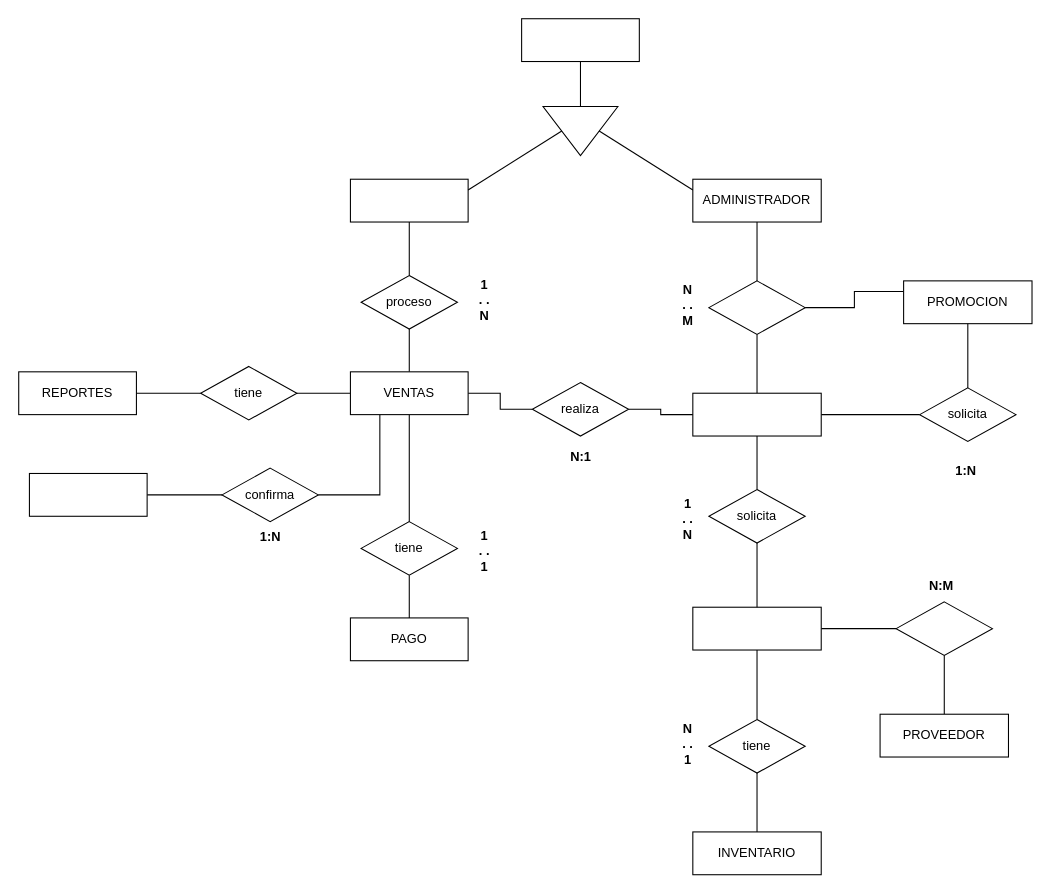
Image size: 1051x893. Some labels were removed from this diagram. Here are the shapes that lost their labels. From the top down, the centre of each, then its label:
the point at 580,40: USUARIO
the point at 408,200: CAJERO
the point at 756,307: consulta
the point at 756,414: CLIENTE
the point at 87,494: SISTEMA FINANCIERO
the point at 756,628: PRODUCTO
the point at 943,628: suministra
